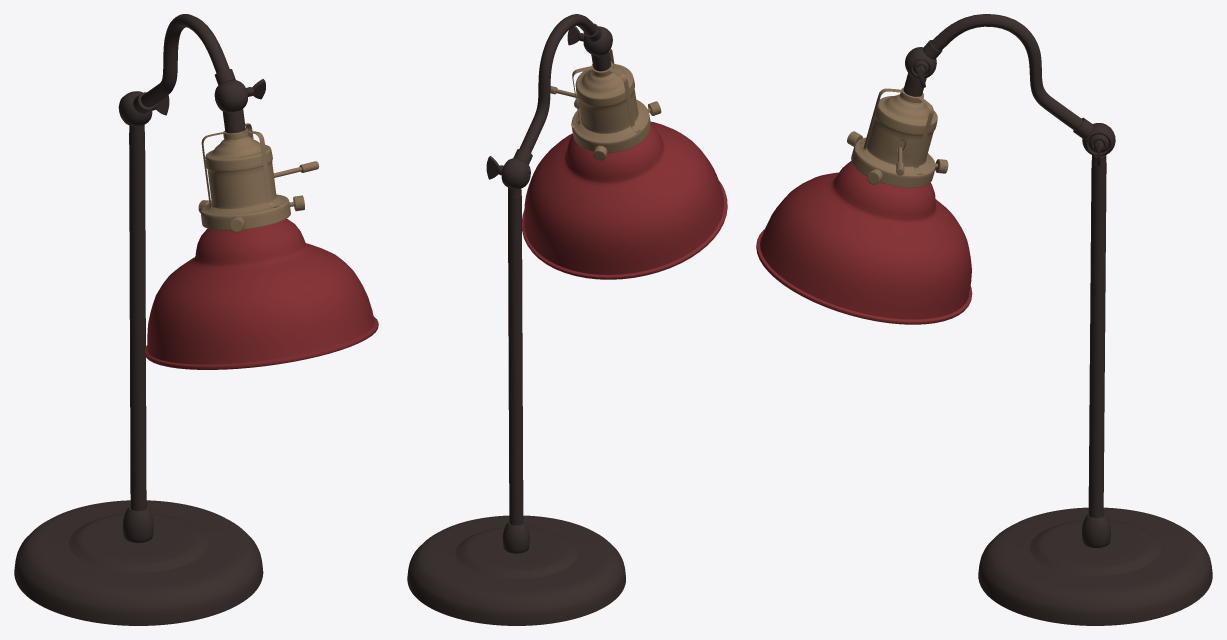
Rendered from lamp_B076V9V7DM.glb.
3 views of the same model, side by side, from view 1: azimuth 30°, elevation 25°; view 2: azimuth 150°, elevation 25°; view 3: azimuth 270°, elevation 25° (orthographic). The views are drawn at different scales.
Parts seen in each view (by area): view 1: RootNode; view 2: RootNode; view 3: RootNode.
Boxes of the visible parts, x1,y1,x2,y2 form: RootNode: (14, 14, 378, 625); RootNode: (407, 14, 727, 625); RootNode: (756, 14, 1212, 625).
Size of the model in its own units: 0.1921 by 0.5077 by 0.3739.
1 material, 1 textured.
